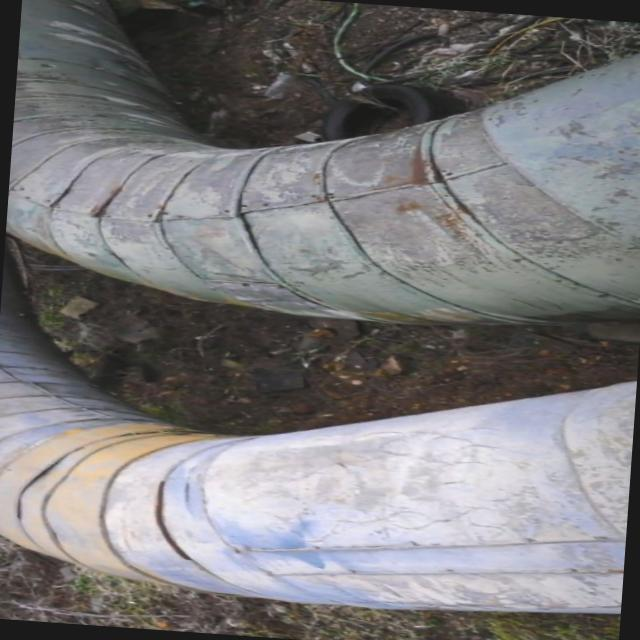gas: (0, 290, 637, 613), (8, 0, 640, 325)
